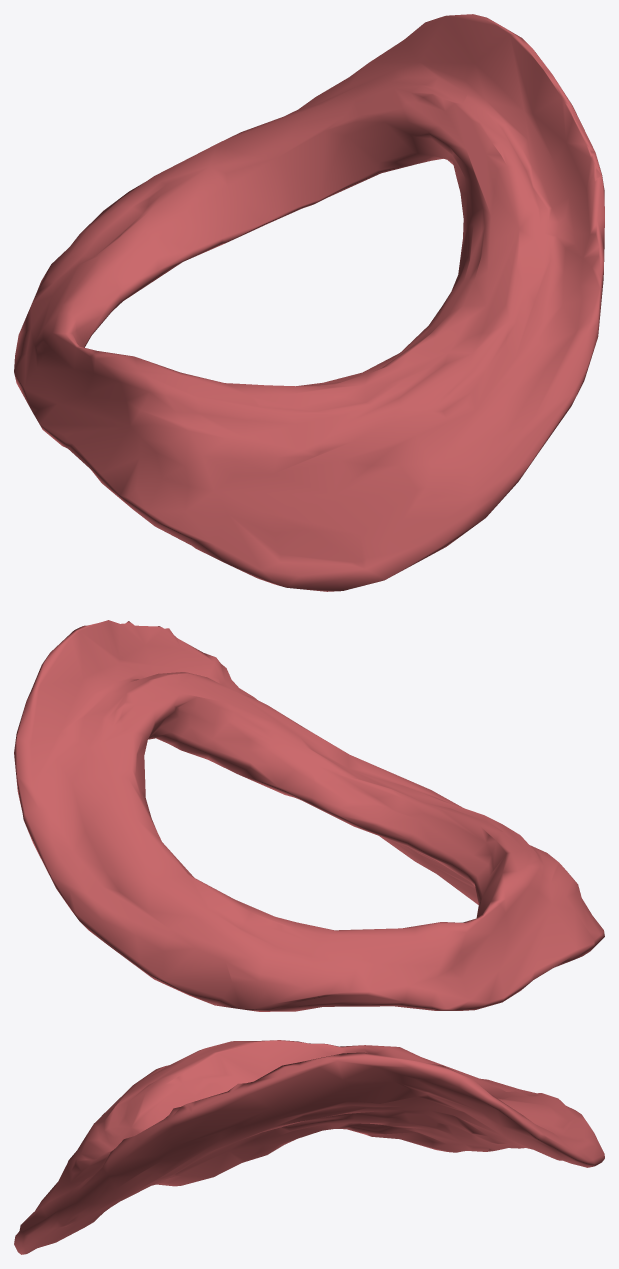
3 renders of one model, top to bottom at view 1: azimuth 30°, elevation 25°; view 2: azimuth 150°, elevation 25°; view 3: azimuth 270°, elevation 25°, orthographic. The views are drawn at different scales.
Visible parts, largest first — view 1: 左侧眼轮匝肌眶部; view 2: 左侧眼轮匝肌眶部; view 3: 左侧眼轮匝肌眶部.
Boxes of the visible parts, box(x1,y1,x2,y2) form: 左侧眼轮匝肌眶部: box(14, 14, 604, 591); 左侧眼轮匝肌眶部: box(14, 620, 604, 1011); 左侧眼轮匝肌眶部: box(14, 1040, 604, 1254).
Size of the model in its own units: 0.0652 by 0.0462 by 0.0732.
